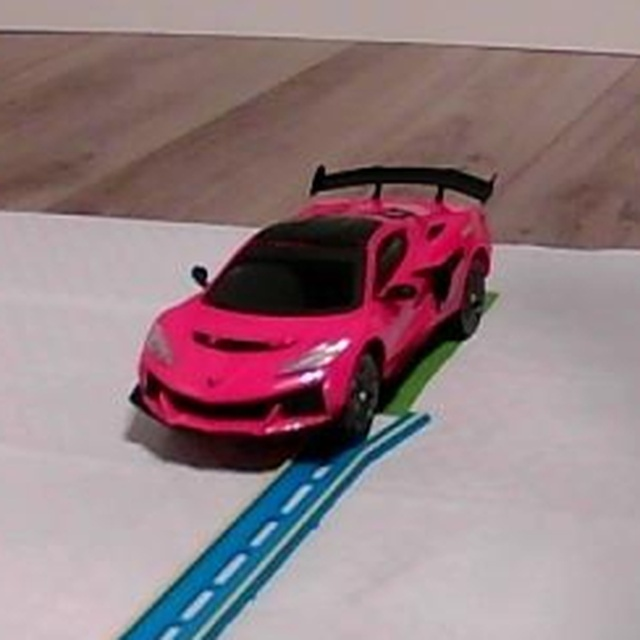tire_front_driver: (335, 355, 385, 442)
tire_rear_driver: (448, 270, 488, 340)
